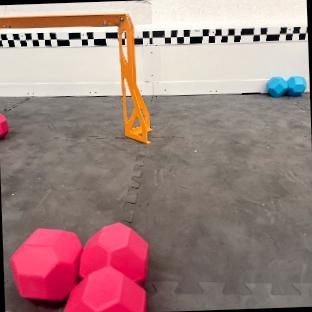Goal: (0, 11, 151, 143)
V5_BLUE: (267, 76, 306, 97)
V5_RED: (10, 222, 147, 312), (0, 113, 9, 138)
